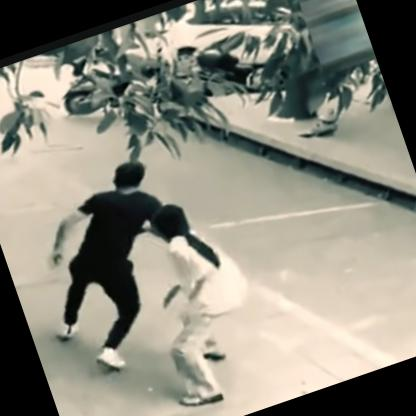Human Body: (6, 150, 210, 390), (115, 179, 287, 415)
